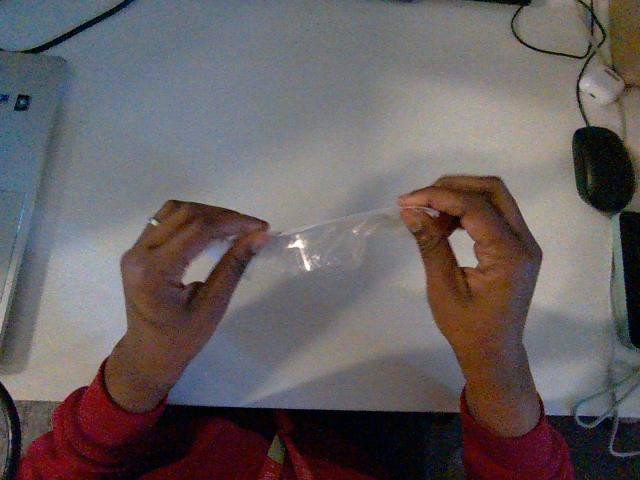gallipot: (254, 207, 406, 275)
